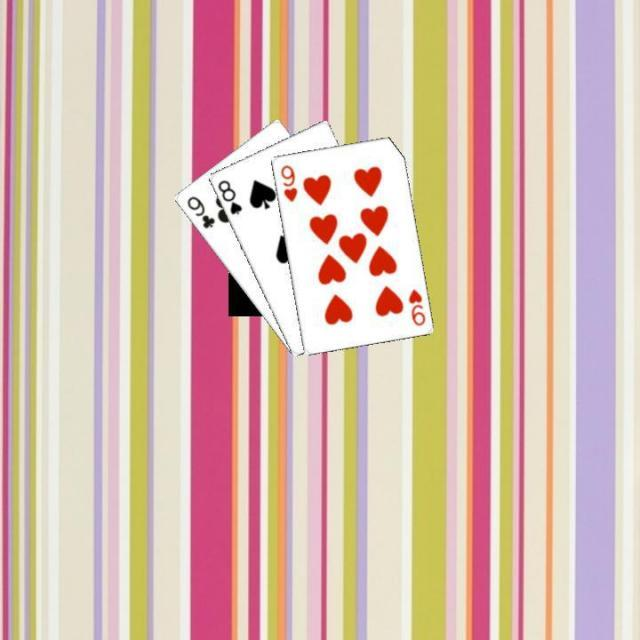8S: (214, 176, 244, 216)
9C: (182, 192, 216, 230)
9H: (277, 161, 299, 203), (405, 285, 427, 327)
